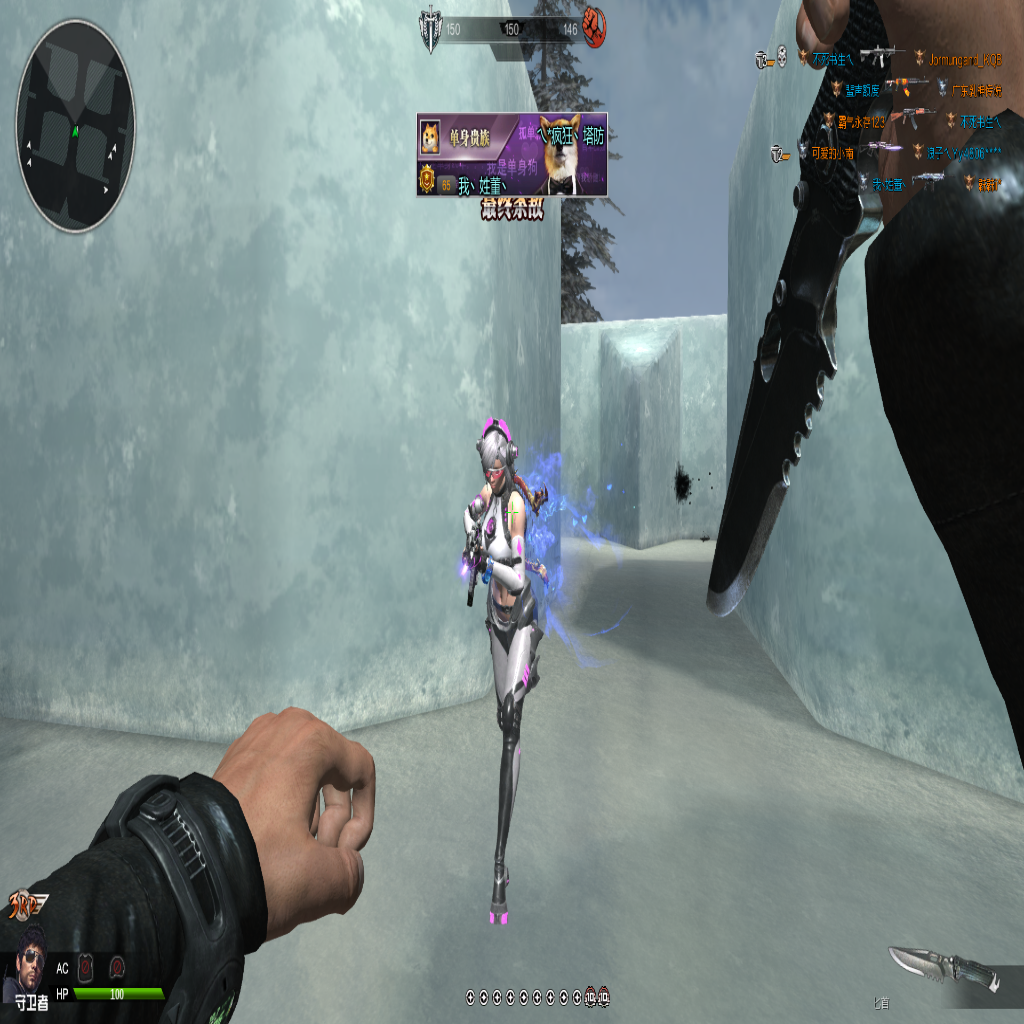tt: (457, 423, 554, 899)
